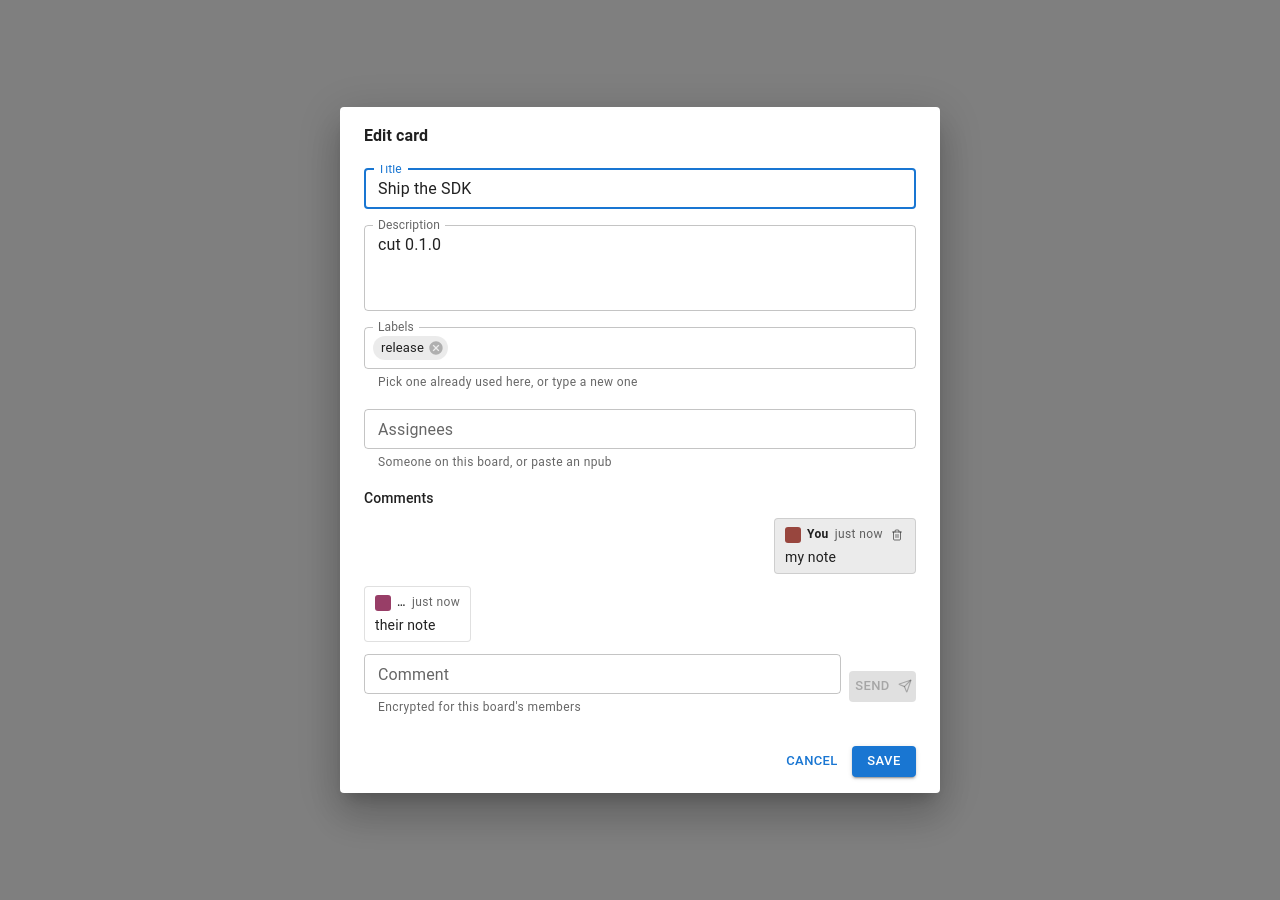
it: CardDialog comments › offers deletion only on own comments and removes it through the store
This screenshot has width=1280, height=900.
Expected: the text "their note" is shown, [375,617,436,633]
Click the button named "delete comment". click: (897, 535)
box: [889,527,905,543]
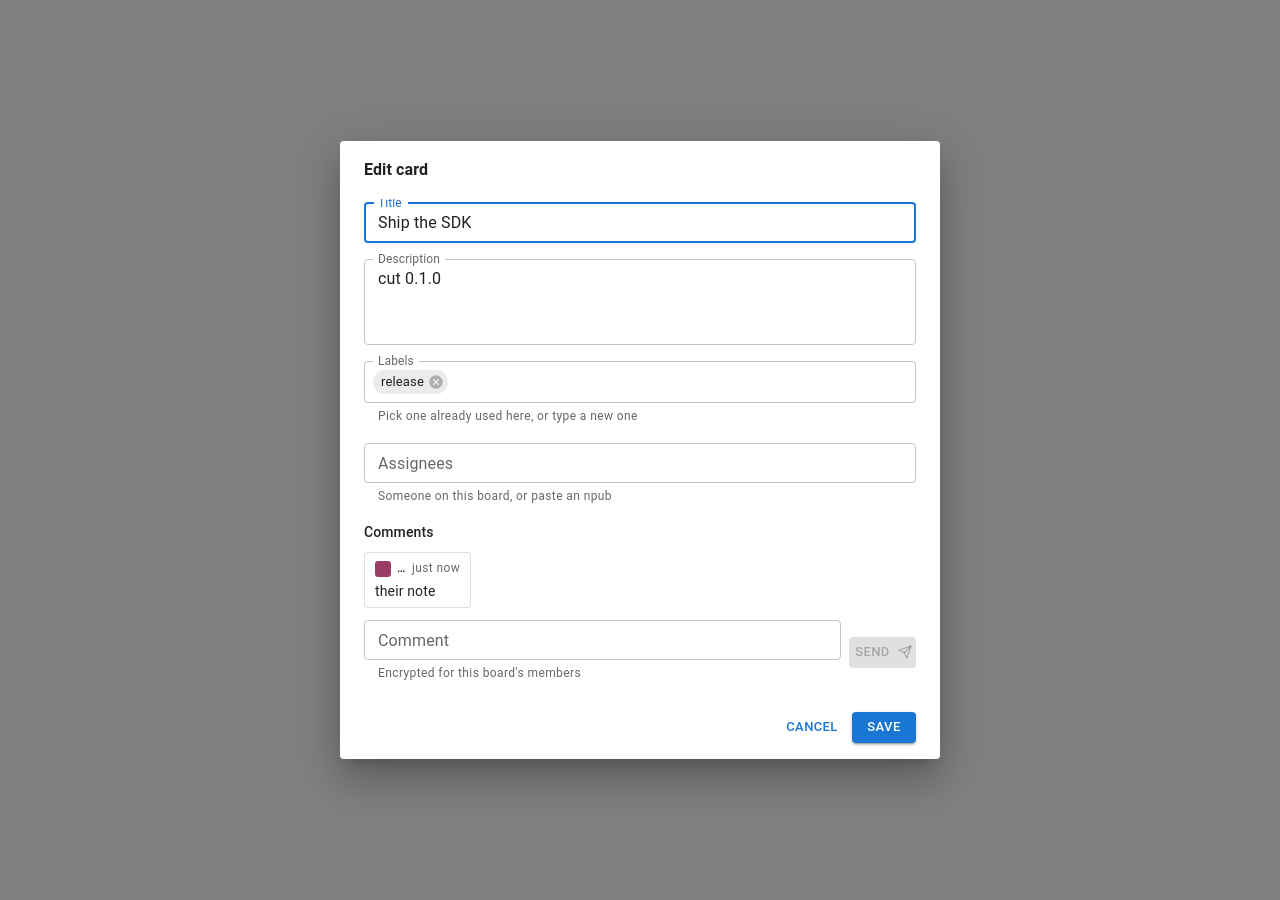
Expected: the text "their note" is shown, [375,583,436,599]
Now the text "my note" is gone
